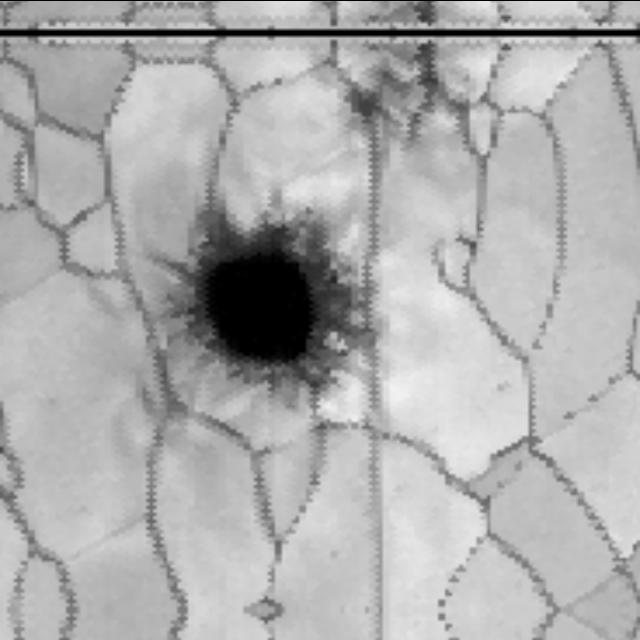good_void: (136, 174, 394, 416), (323, 42, 464, 146)
